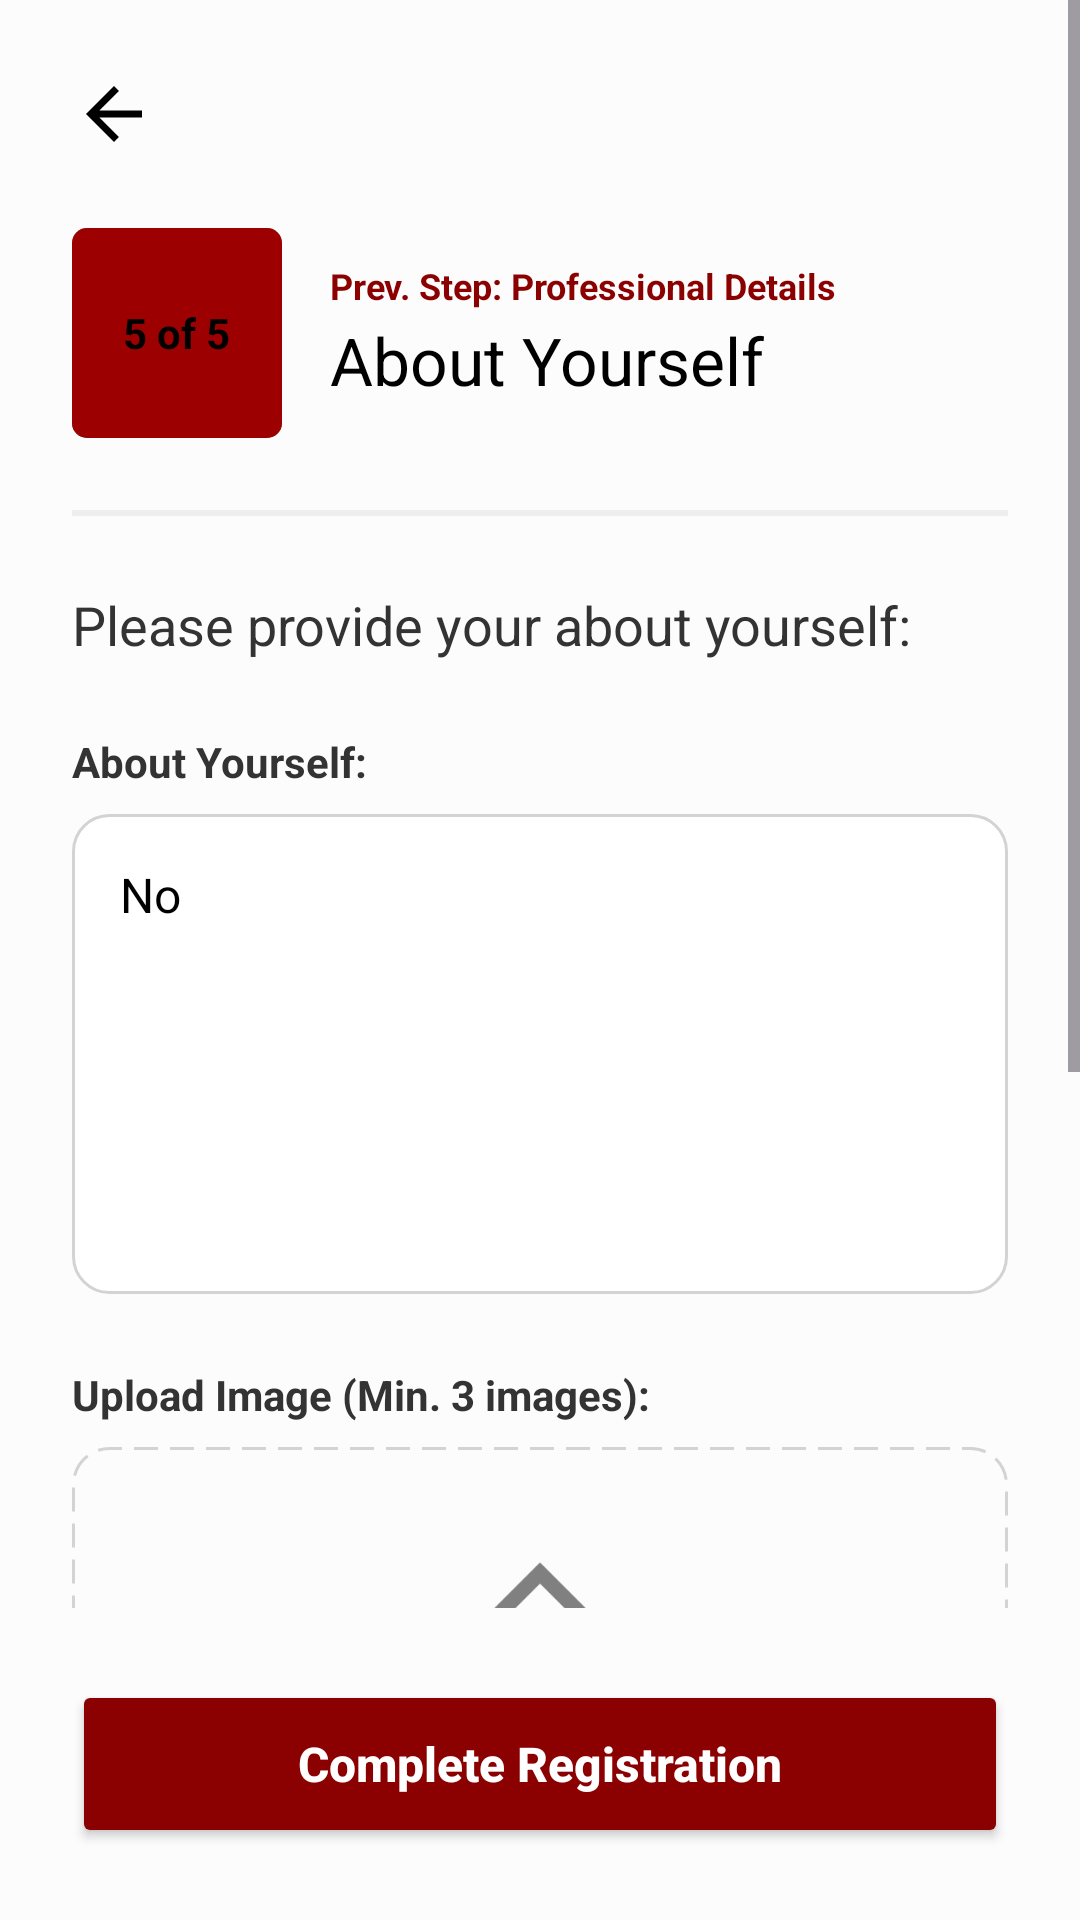

Screen size 1080px×1920px. Icon name, then its center in pixels as (x=x, y=y):
arrow back: (x=114, y=114)
